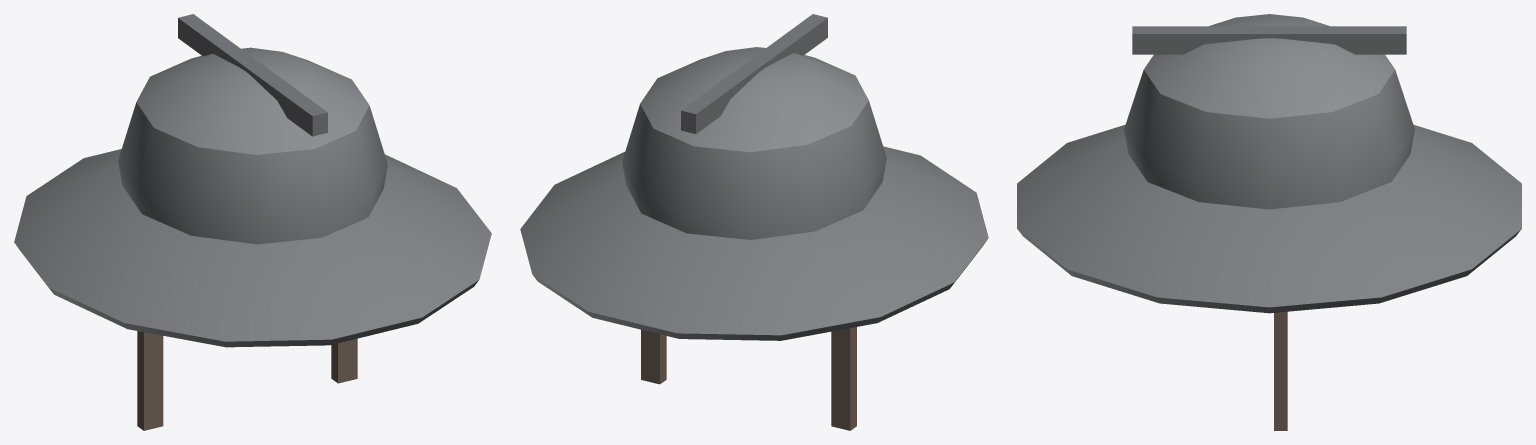
Rendered from kettle_helmet.gltf.
3 views of the same model, side by side, from view 1: azimuth 30°, elevation 25°; view 2: azimuth 150°, elevation 25°; view 3: azimuth 270°, elevation 25° (orthographic). The views are drawn at different scales.
Visible parts, largest first — view 1: Body; view 2: Body; view 3: Body.
Part boxes in pixels (left/top/right/bottom): Body: left=14, top=14, right=491, bottom=430; Body: left=520, top=14, right=988, bottom=430; Body: left=1017, top=14, right=1521, bottom=430.
Bounding box in the file's own units: 0.42 × 0.336 × 0.4422.
